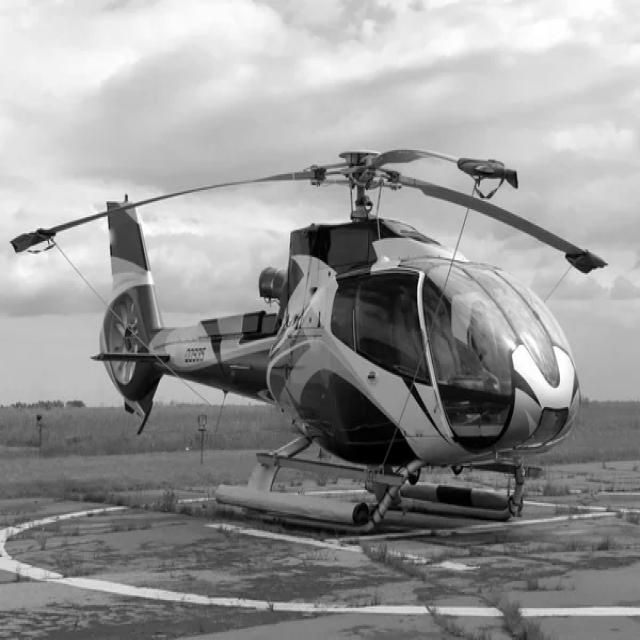Helicopter: (11, 148, 606, 532)
